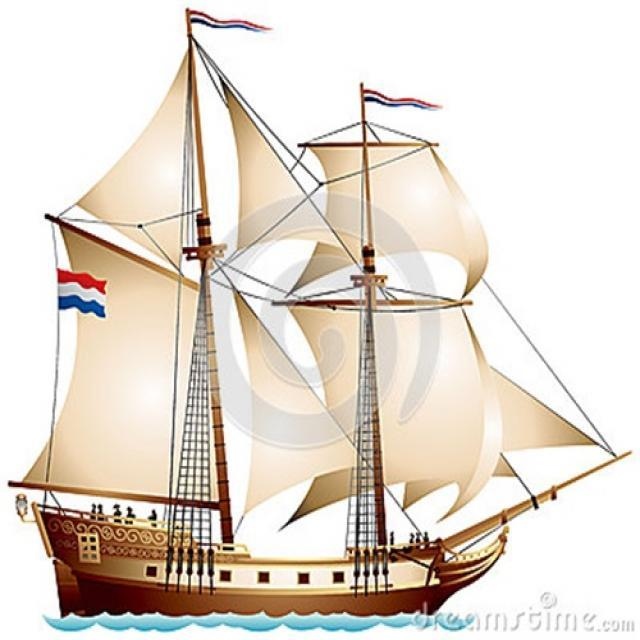Ship: (12, 17, 604, 625)
